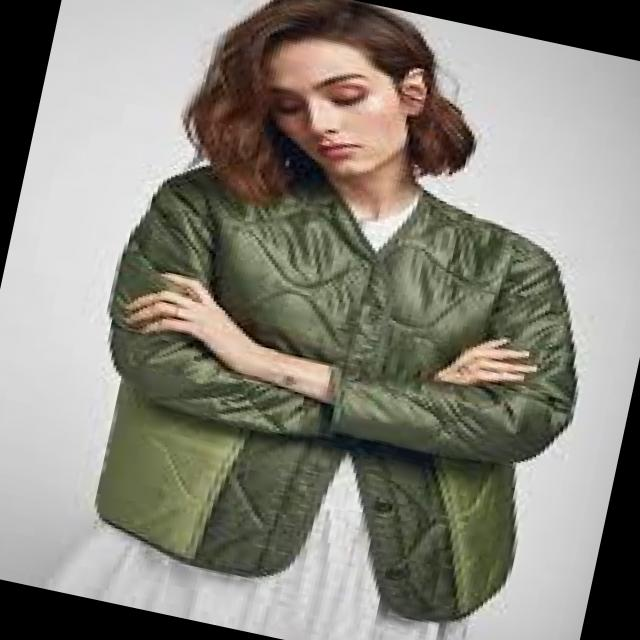Jacket: (96, 128, 614, 629)
